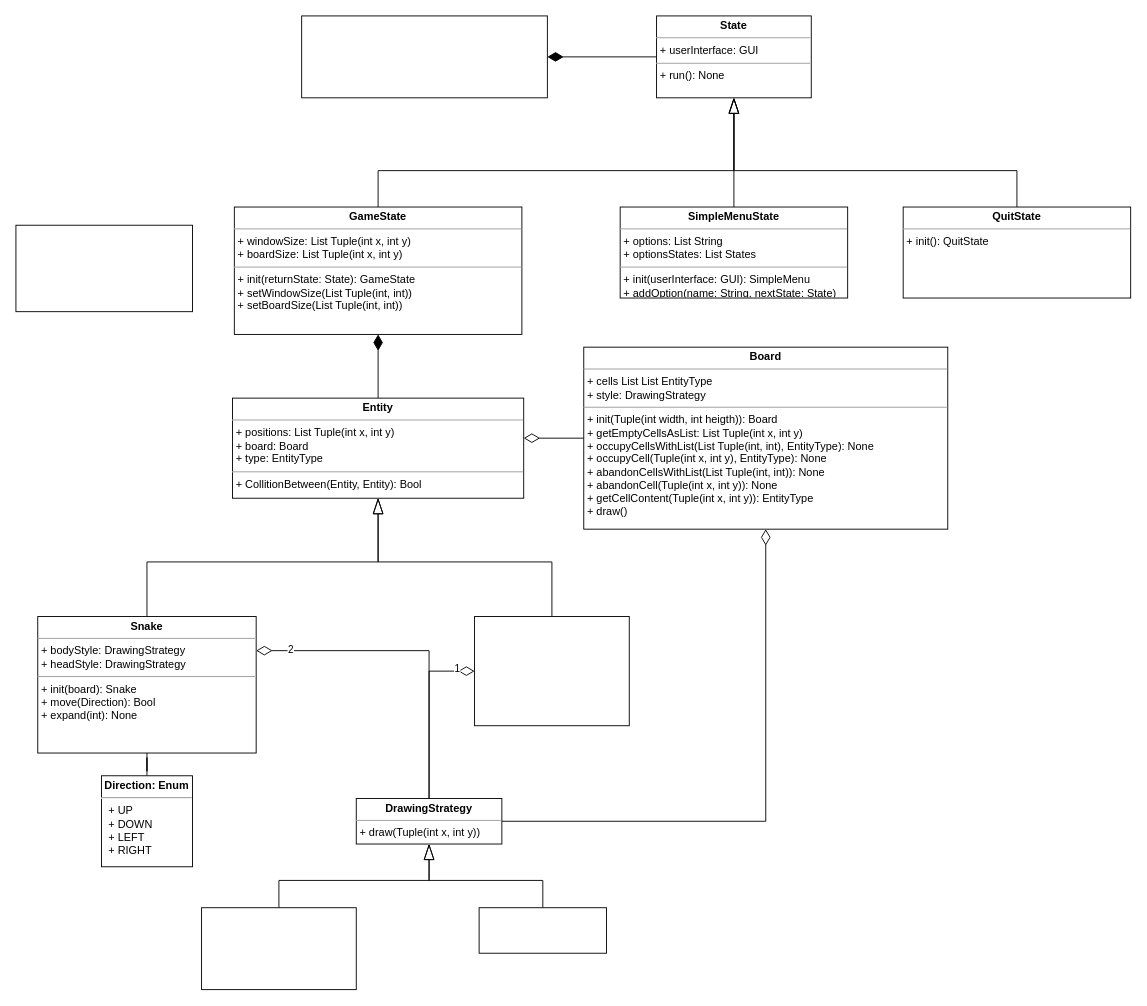
Image size: 1147x1006. Some labels were removed from this diagram. Here are the shapes that lost their labels. From the top down, the centre of each, then its label:
the point at 424,56: GUI + CurrentWindow: State + ChangeWindow(newWindow: State): None
the point at 103,268: EntityType: Enum + SNAKE + WALL + FOOD
the point at 551,671: Food + FoodSkin: DrawingStrategy + init(Board): Food + eaten(): None
the point at 278,948: ClassicStyle + + draw(Tuple(int x, int y))
the point at 542,930: DrawingFromPng + draw(Tuple(int x, int y))
